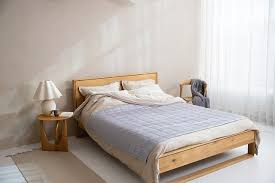bed-matress: (78, 92, 256, 155)
